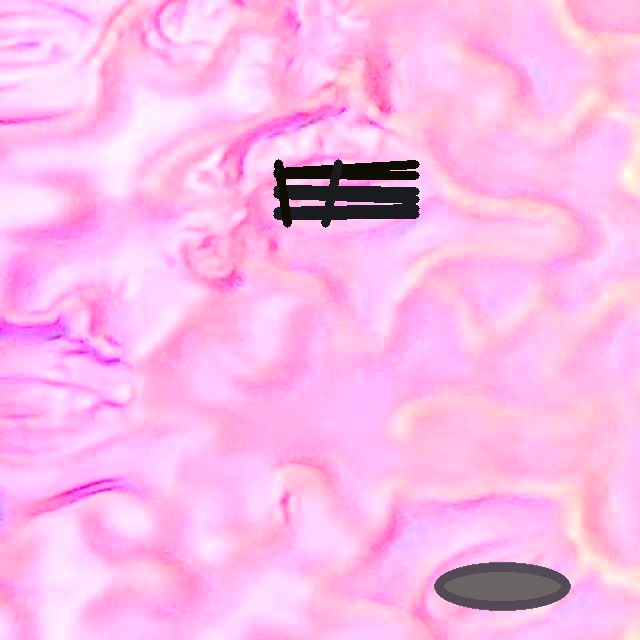open: (273, 159, 419, 227), (433, 562, 571, 610)
